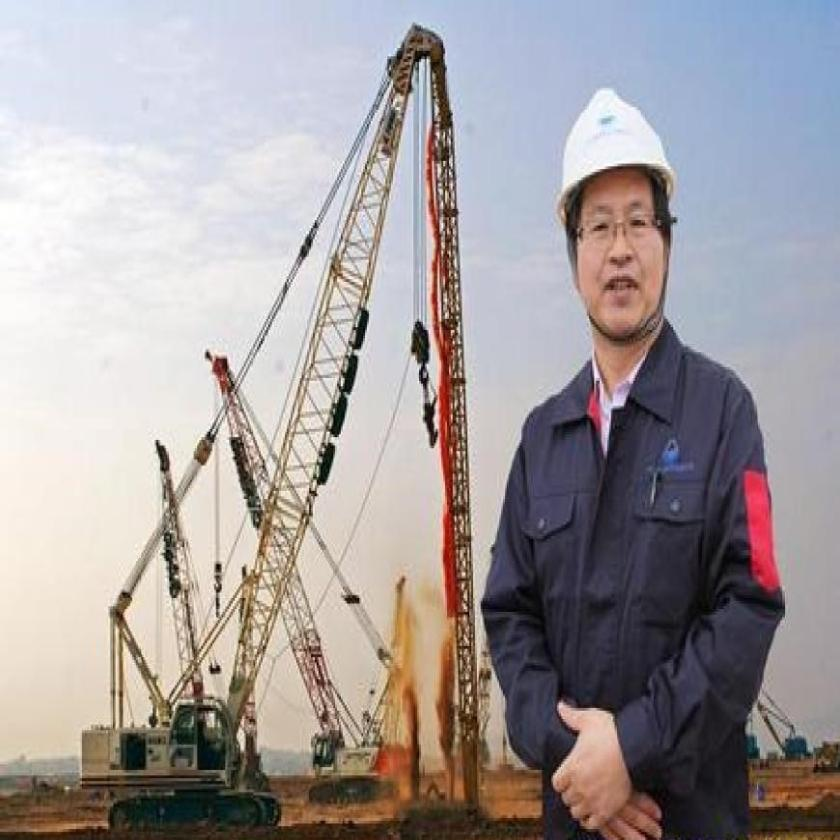Con_casco: (550, 69, 691, 336)
